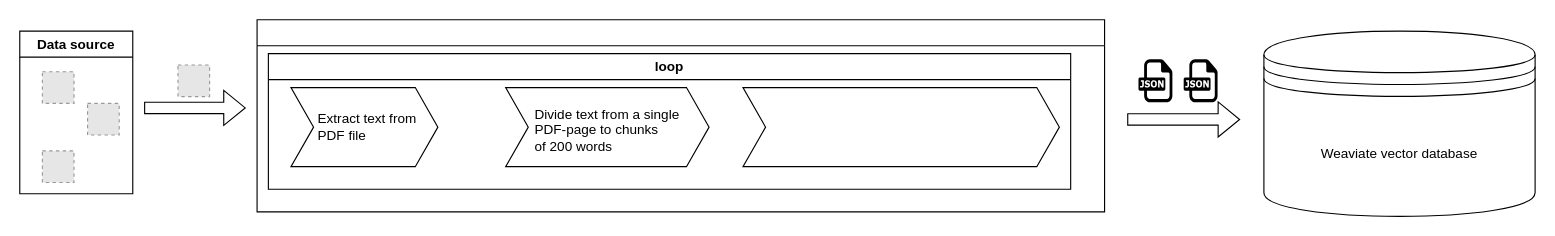
Some shapes in this 1555 by 236 pixel diagram are drawn without their labels. Grey dashed boxes stand in for pictures. Here are the shapes that lost their labels. From the top down, the box of each, then its label:
(256, 19, 1105, 212): Python script
(742, 86, 1059, 167): Create JSON object with metadata such as "content", "title", "chunk_index" etc
